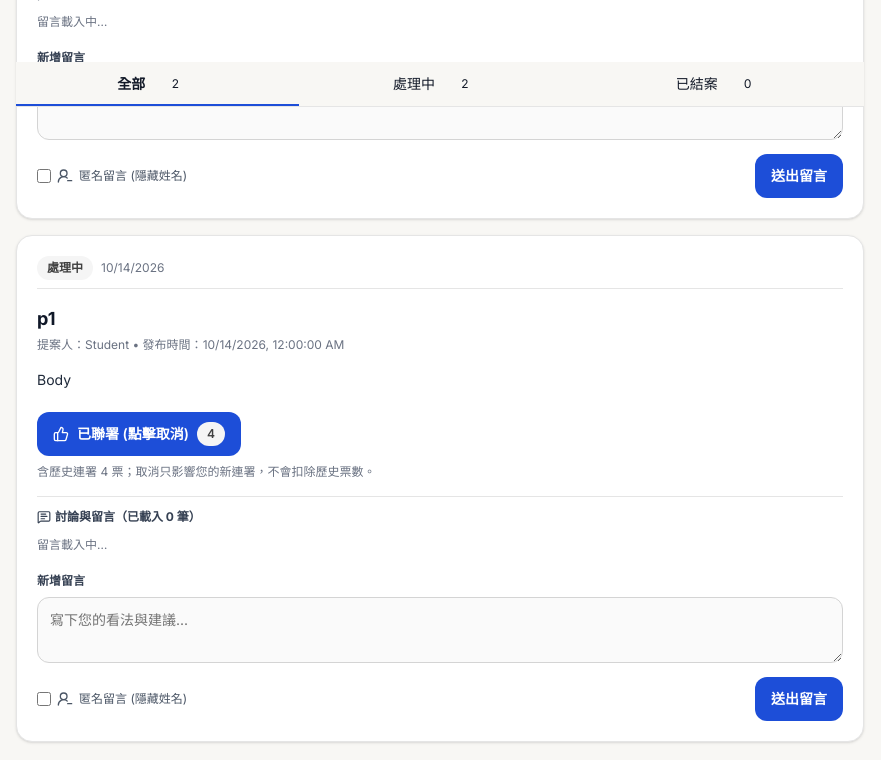
uses the receipt ballot without ever writing local vote authority (cancel=true)
(page scrolled)
Expected: the heading "p1" is shown, [37, 308, 56, 329]
Click the button "已聯署 (點擊取消) 4": coordinates (139, 434) [37, 412, 241, 456]
(page scrolled)
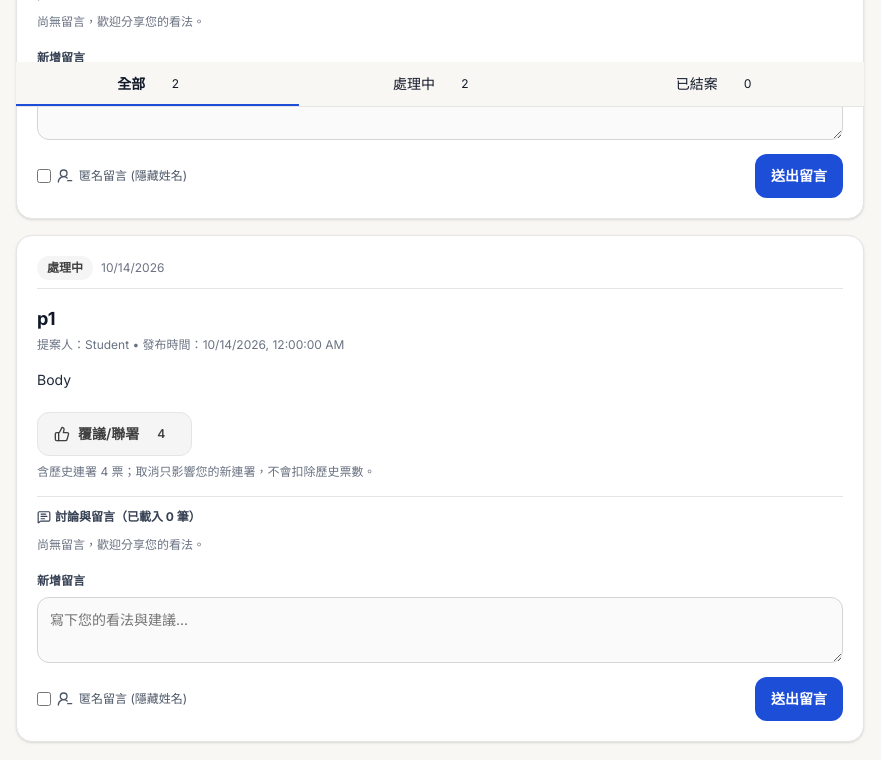
Expected: the text "4" is shown, [147, 422, 175, 446]
Expected: the button "覆議/聯署 4" is shown, [37, 412, 192, 456]
